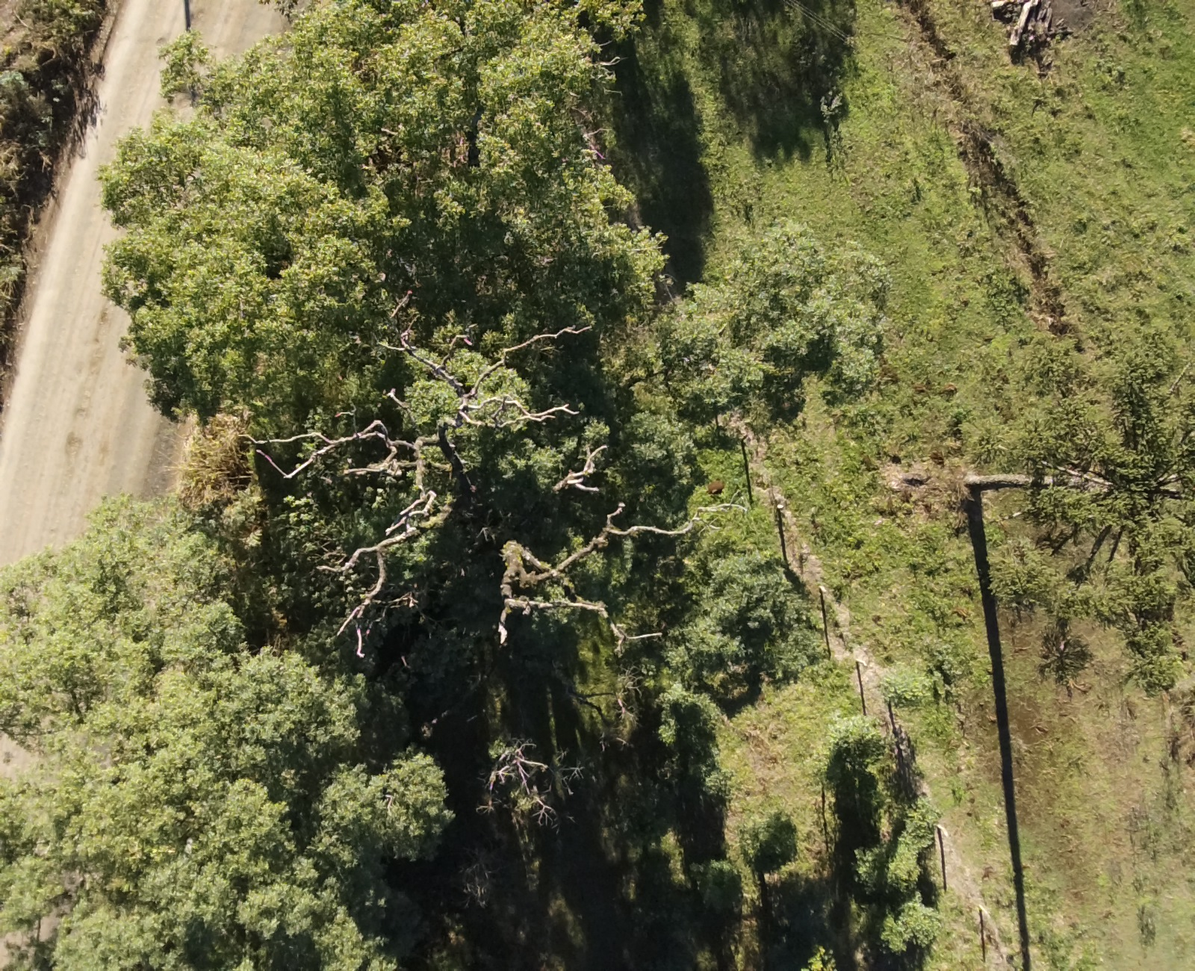erva: (853, 822, 919, 896), (822, 714, 888, 783), (733, 812, 801, 874), (885, 904, 956, 956), (698, 846, 742, 922)
